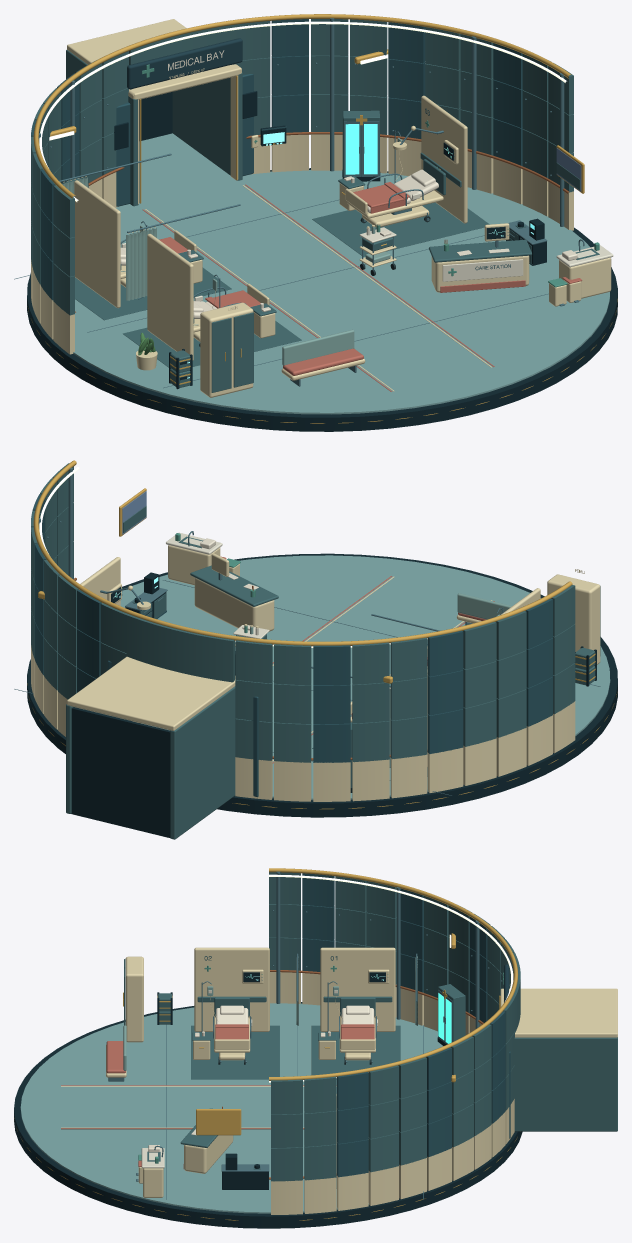
Rendered from starling-medbay.glb.
The picture shows the model from 3 angles, top to bottom: view 1: azimuth 30°, elevation 25°; view 2: azimuth 150°, elevation 25°; view 3: azimuth 270°, elevation 25°; orthographic projection. The views are drawn at different scales.
Parts seen in each view (by area): view 1: Deck / continuous level floor, Hull / curved teal panel (×36), Bay / cream headwall (×3), Hull / low circular foundation, Hull / washable cream lower panel (×8), Deck / patient bay floor inset (×3), Entrance / corridor right wall, Entrance / clear corridor floor, Entrance / corridor ceiling, Hull / upper trim (×2), Storage / cupboard door (×2), Entrance / medical sign backing (+25 smaller); view 2: Hull / curved teal panel (×39), Deck / continuous level floor, Hull / washable cream lower panel (×11), Entrance / corridor distant shadow, Hull / low circular foundation, Entrance / corridor left wall, Entrance / corridor ceiling, Entrance / continuous curved transom, Hull / upper trim (×2), Nursing / ivory counter, Storage / linen cupboard, Nursing / matte teal work surface (+7 smaller); view 3: Hull / curved teal panel (×47), Deck / continuous level floor, Hull / washable cream lower panel (×12), Entrance / corridor right wall, Bay / cream headwall (×2), Hull / low circular foundation, Entrance / corridor ceiling, Deck / patient bay floor inset (×2), Hull / upper trim (×2), Hull / rounded structural seam (×3), Storage / linen cupboard, Comfort / framed calm landscape (+6 smaller).
Part boxes in pixels (<box>): Deck / continuous level floor: <box>73,170,609,414</box>; Hull / curved teal panel (×36): <box>40,19,573,315</box>; Bay / cream headwall (×3): <box>74,95,467,360</box>; Hull / low circular foundation: <box>27,168,617,431</box>; Hull / washable cream lower panel (×8): <box>53,134,573,354</box>; Deck / patient bay floor inset (×3): <box>75,202,489,367</box>; Entrance / corridor right wall: <box>172,72,242,180</box>; Entrance / clear corridor floor: <box>139,133,235,204</box>; Entrance / corridor ceiling: <box>67,19,241,98</box>; Hull / upper trim (×2): <box>33,14,571,198</box>; Storage / cupboard door (×2): <box>211,312,253,392</box>; Entrance / medical sign backing: <box>127,38,242,89</box>; Hull / curved teal panel (×39): <box>43,560,575,762</box>; Deck / continuous level floor: <box>120,555,610,800</box>; Hull / washable cream lower panel (×11): <box>43,676,575,801</box>; Entrance / corridor distant shadow: <box>71,707,170,838</box>; Hull / low circular foundation: <box>27,553,617,817</box>; Entrance / corridor left wall: <box>170,686,235,839</box>; Entrance / corridor ceiling: <box>67,656,235,730</box>; Entrance / continuous curved transom: <box>126,614,234,682</box>; Hull / upper trim (×2): <box>33,460,572,646</box>; Nursing / ivory counter: <box>194,577,274,631</box>; Storage / linen cupboard: <box>547,574,600,664</box>; Nursing / matte teal work surface: <box>190,565,278,606</box>; Hull / curved teal panel (×47): <box>269,872,505,1181</box>; Deck / continuous level floor: <box>20,1003,443,1213</box>; Hull / washable cream lower panel (×12): <box>270,972,505,1214</box>; Entrance / corridor right wall: <box>514,1037,617,1131</box>; Bay / cream headwall (×2): <box>194,947,395,1031</box>; Hull / low circular foundation: <box>14,1002,522,1228</box>; Entrance / corridor ceiling: <box>500,988,617,1037</box>; Deck / patient bay floor inset (×2): <box>191,1025,400,1079</box>; Hull / upper trim (×2): <box>269,868,512,1080</box>; Hull / rounded structural seam (×3): <box>276,871,479,1028</box>; Storage / linen cupboard: <box>125,956,143,1042</box>; Comfort / framed calm landscape: <box>196,1109,241,1135</box>.
Size of the model in its own units: 15.2 by 4.88 by 18.
